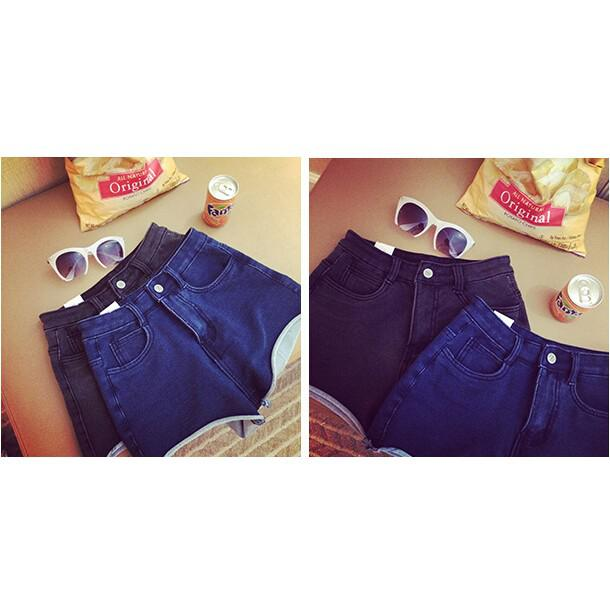Shorts: (306, 230, 538, 454), (78, 226, 301, 455), (362, 293, 610, 457)
